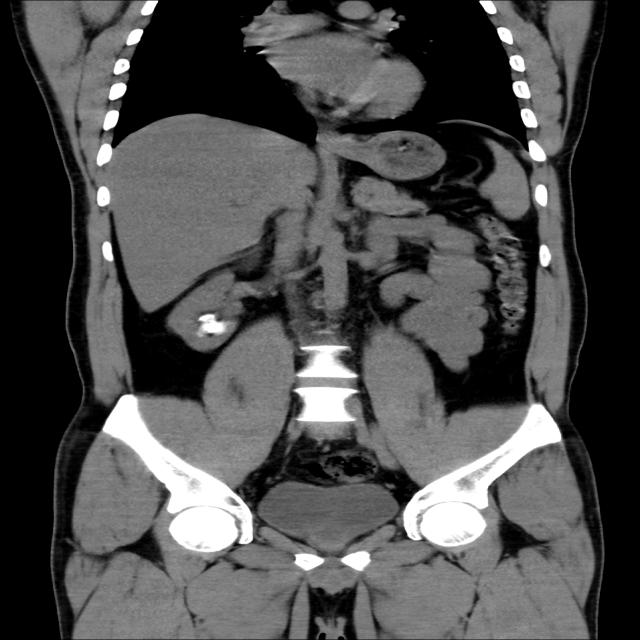kidneystone: (199, 314, 226, 335)
